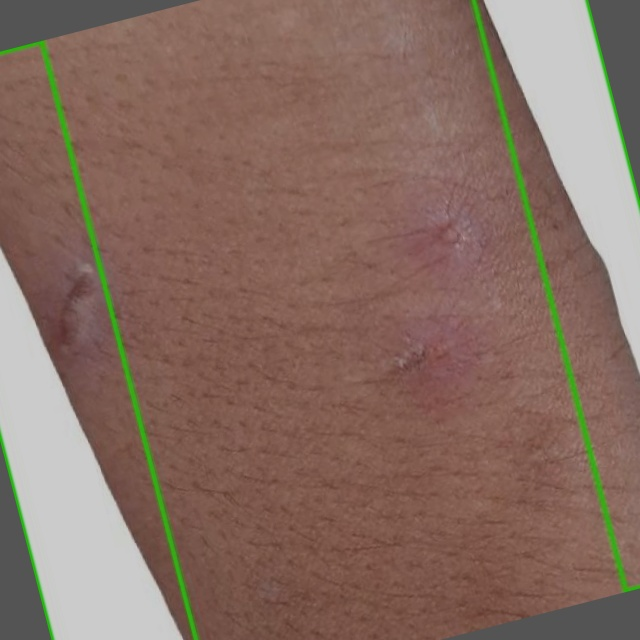Scabies: (0, 41, 195, 639), (473, 0, 639, 591)
